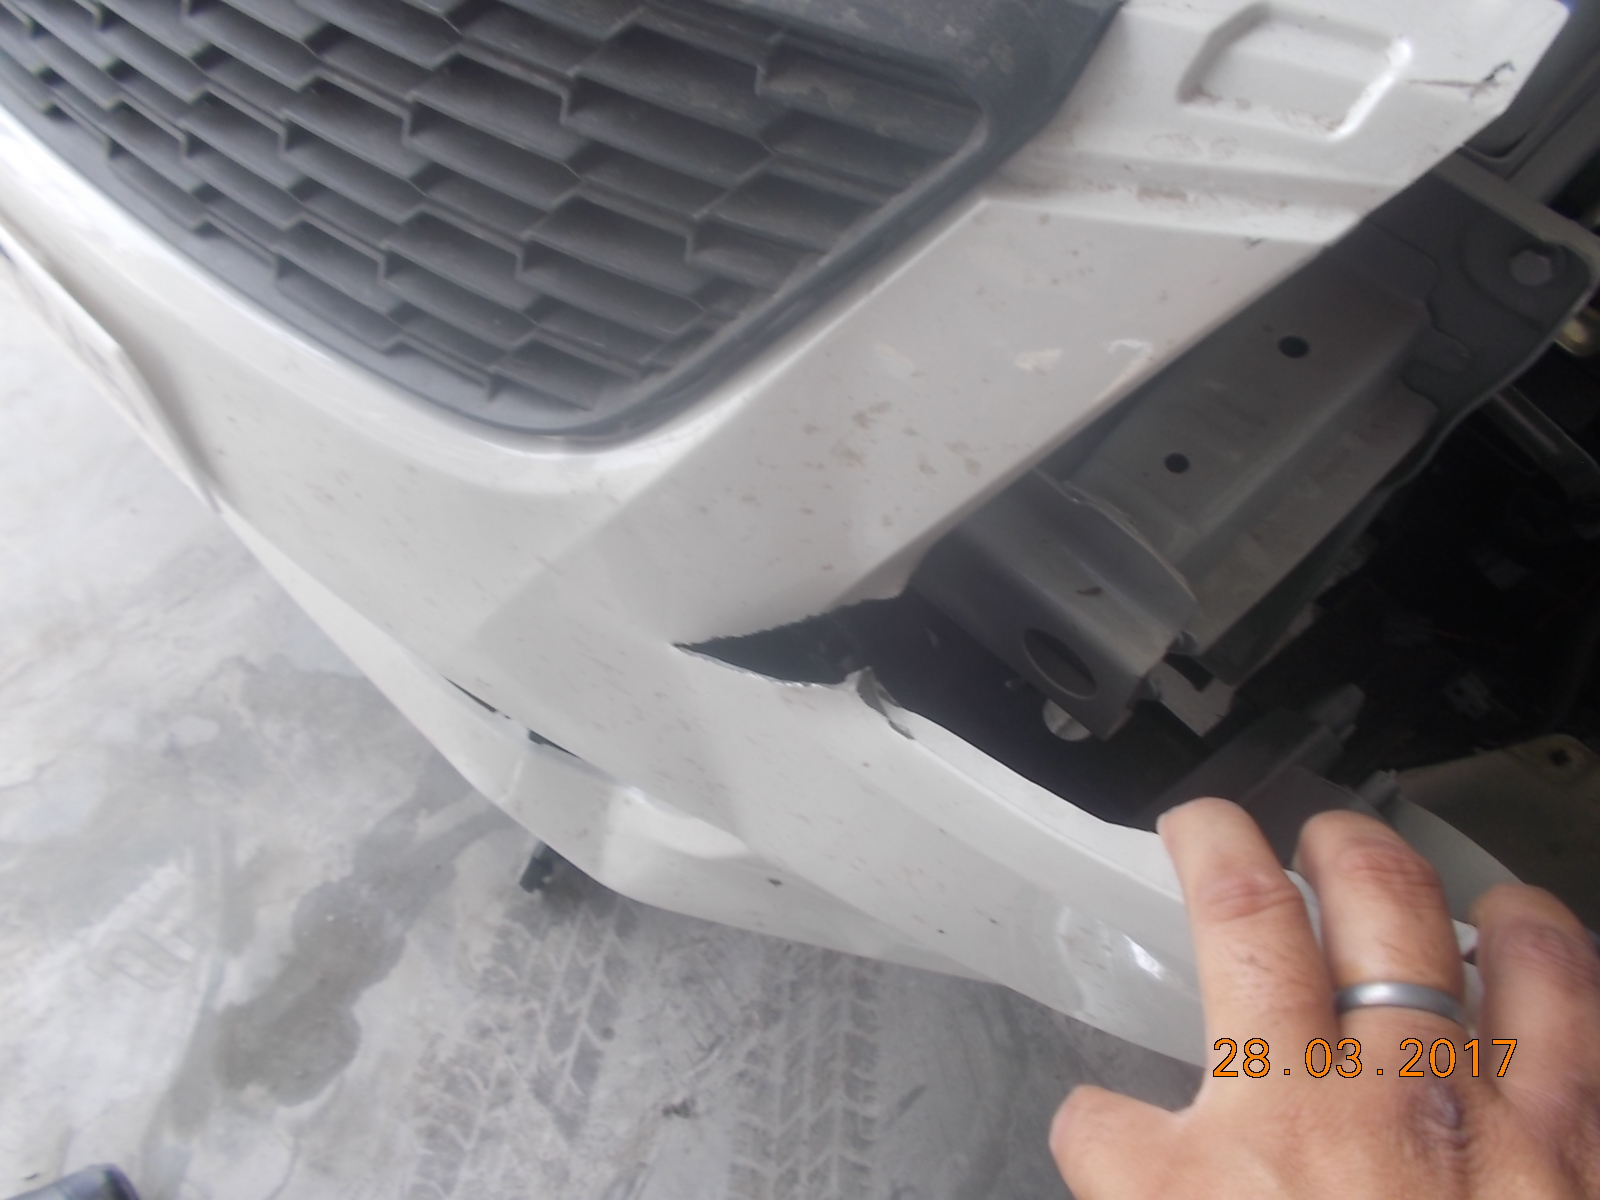Tear: (653, 552, 901, 742)
